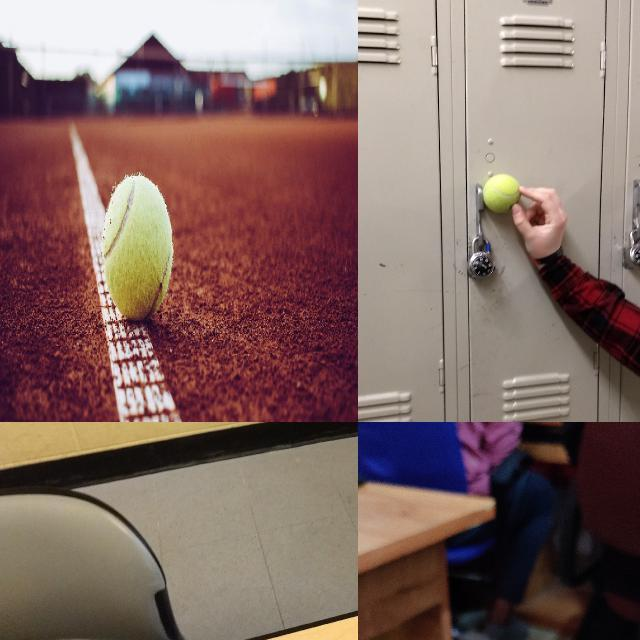tennis-ball: (102, 175, 173, 323), (483, 173, 522, 213)
